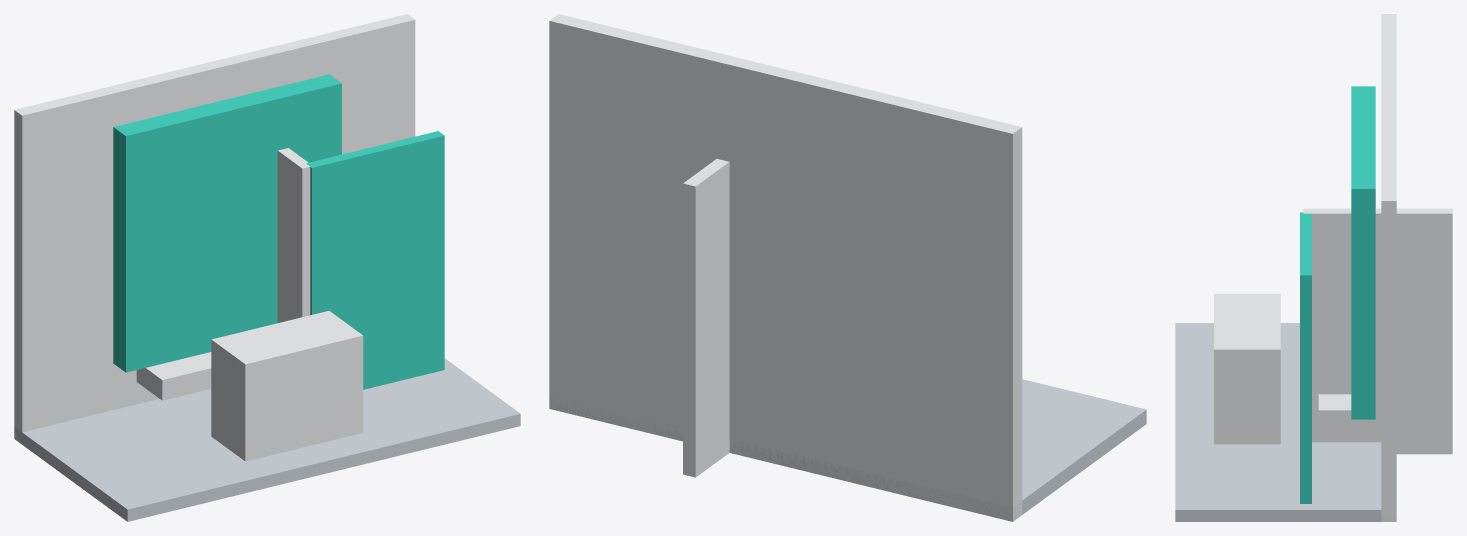
3 views of the same model, side by side, from view 1: azimuth 30°, elevation 25°; view 2: azimuth 150°, elevation 25°; view 3: azimuth 270°, elevation 25° (orthographic). The views are drawn at different scales.
Parts seen in each view (by area): view 1: Exhibition Booth Concept; view 2: Exhibition Booth Concept; view 3: Exhibition Booth Concept.
Part boxes in pixels (x1,y1,x2,y2): Exhibition Booth Concept: (14,14,520,521); Exhibition Booth Concept: (549,14,1146,521); Exhibition Booth Concept: (1175,14,1452,521).
Bounding box in the file's own units: 4 × 3.2 × 2.5.
